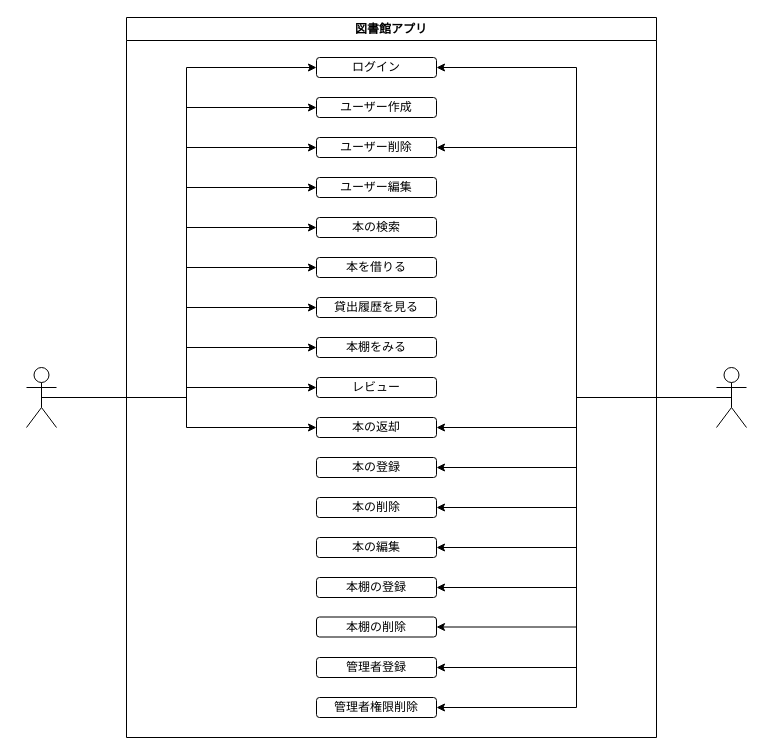
The diagram is 766 pixels wide and 755 high, and some of its shapes have lost their labels. Each missing label, with the centre of its shape:
"ユーザー" belongs at (41,397).
"管理者" belongs at (731,397).
